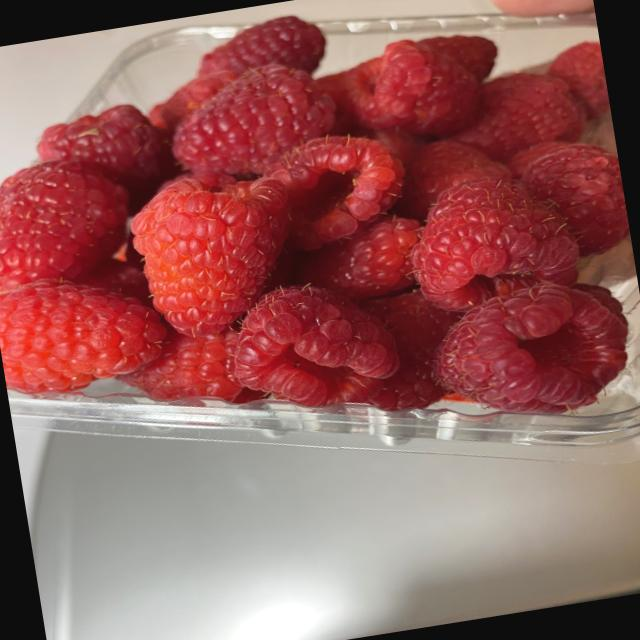raspberries: (0, 25, 623, 375)
